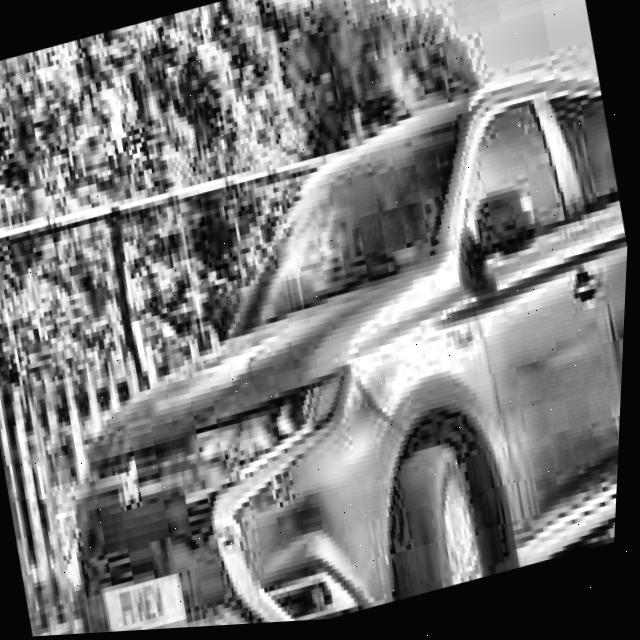light_vehicle: (0, 54, 637, 639)
